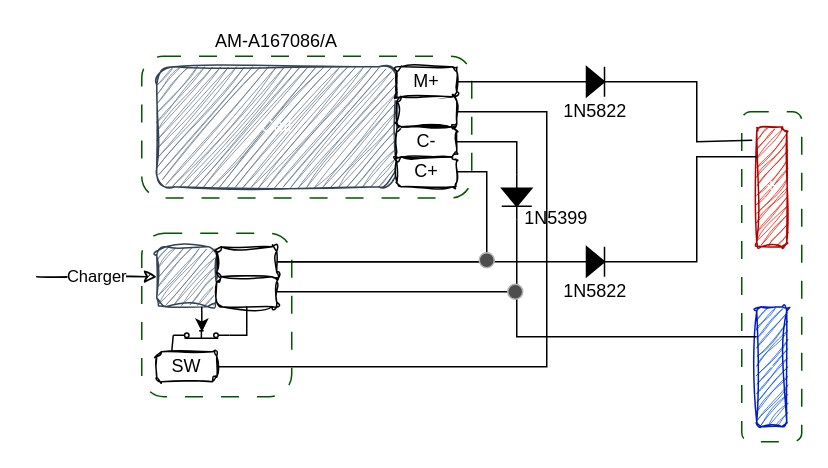
The diagram is 828 pixels wide and 468 high, and some of its shapes have lost their labels. Each missing label, with the centre of its shape:
35V: (x=246, y=261)
Barrel: (x=186, y=276)
GND: (x=246, y=291)
M-: (x=426, y=111)
